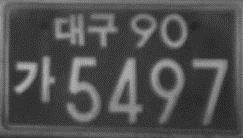0: (160, 13, 189, 49)
4: (107, 55, 144, 124)
5: (64, 54, 102, 122)
7: (190, 57, 228, 126)
9: (148, 57, 185, 125), (130, 10, 158, 49)
가: (13, 54, 56, 105)
대구_O: (52, 10, 120, 48)
